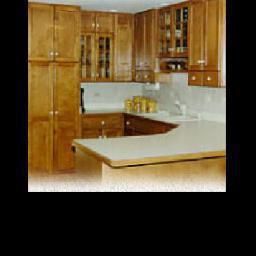Lavaplatos: (152, 98, 205, 123)
